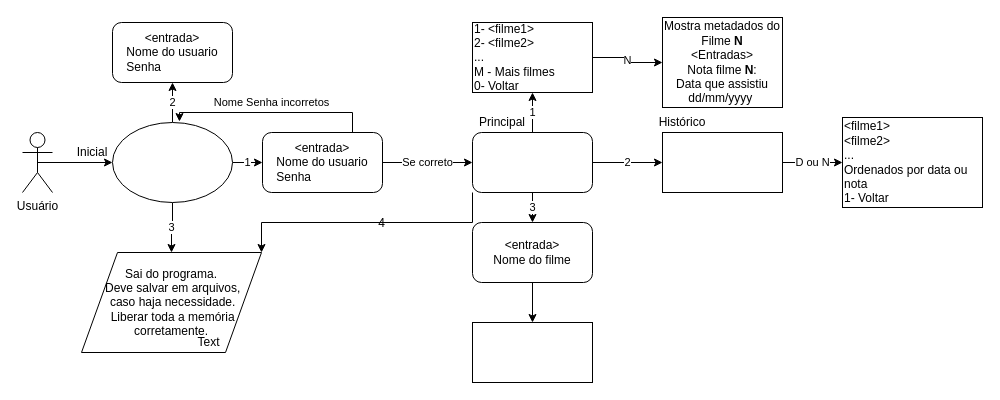
Image size: 1000x400. Some labels were removed from this diagram. The shapes that lost their labels are listed below. From the top down, each one's centre as x and y in pixels, then its label:
At pixel 172 162: "1. Login 2.Cadastro 3. Sair".
At pixel 532 162: "1.Listar filmes 2. Meu perfil 3.Procurar Filme 4. Sair".
At pixel 722 162: "1. Histórico D ata / N ota 2. Excluir conta 3. voltar".
At pixel 532 352: "<filme1> <filme2> ... 1- Voltar".
